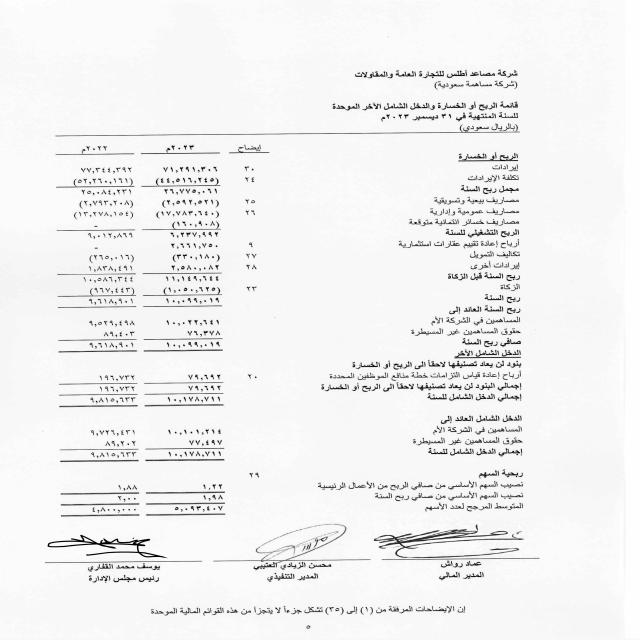financial_sheets: (328, 98, 524, 112)
table: (30, 125, 291, 532)
